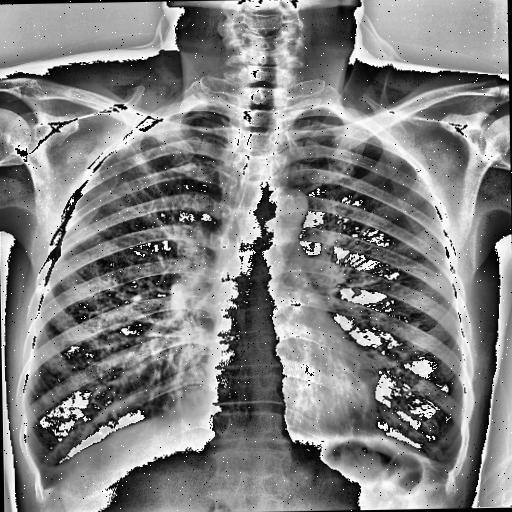10- Pleural effusion: (24, 462, 62, 496), (425, 450, 462, 484)
11- Pleural thickening: (30, 454, 74, 492), (35, 454, 69, 503), (24, 462, 62, 496), (425, 450, 462, 484), (430, 456, 463, 487), (431, 454, 456, 479)
13- Pulmonary fibrosis: (108, 138, 199, 240), (120, 140, 198, 236), (120, 138, 180, 234)
